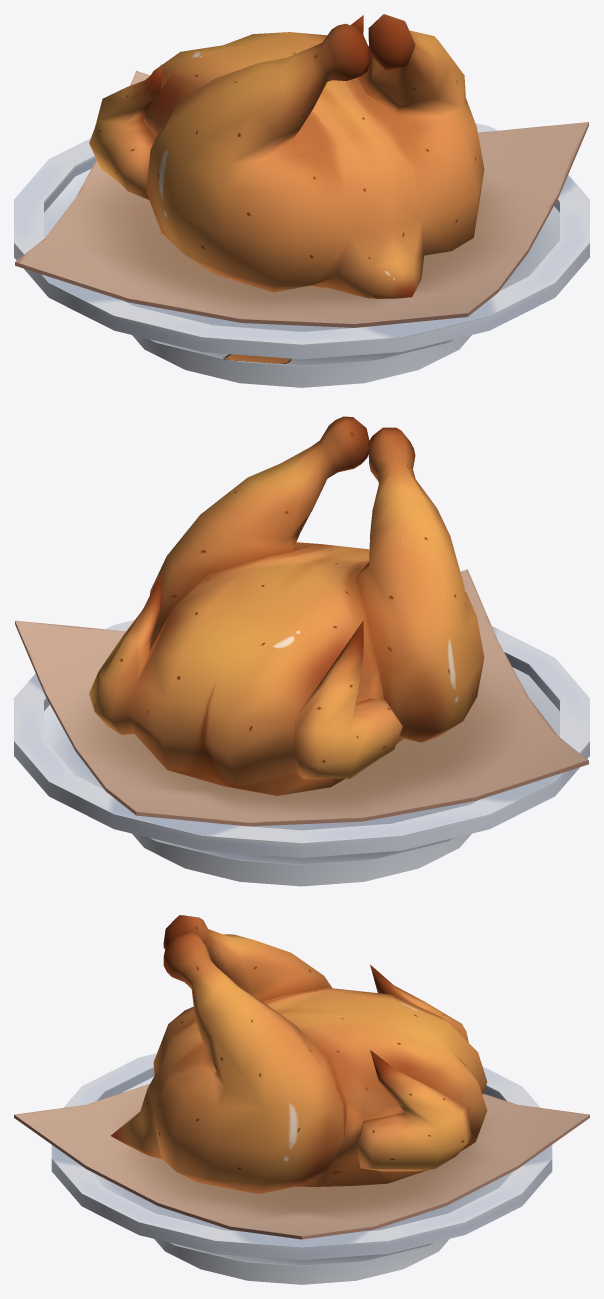
Rendered from chicken.fbx.
3 views of the same model, one above another, from view 1: azimuth 30°, elevation 25°; view 2: azimuth 150°, elevation 25°; view 3: azimuth 270°, elevation 25° (orthographic). The views are drawn at different scales.
Visible parts, largest first — view 1: Object001; view 2: Object001; view 3: Object001.
Boxes of the visible parts, box(x1,y1,x2,y2) form: Object001: box(14, 14, 589, 387); Object001: box(14, 416, 589, 886); Object001: box(14, 915, 589, 1284).
Size of the model in its own units: 64.27 by 36.11 by 64.27.
1 material, 1 textured.
